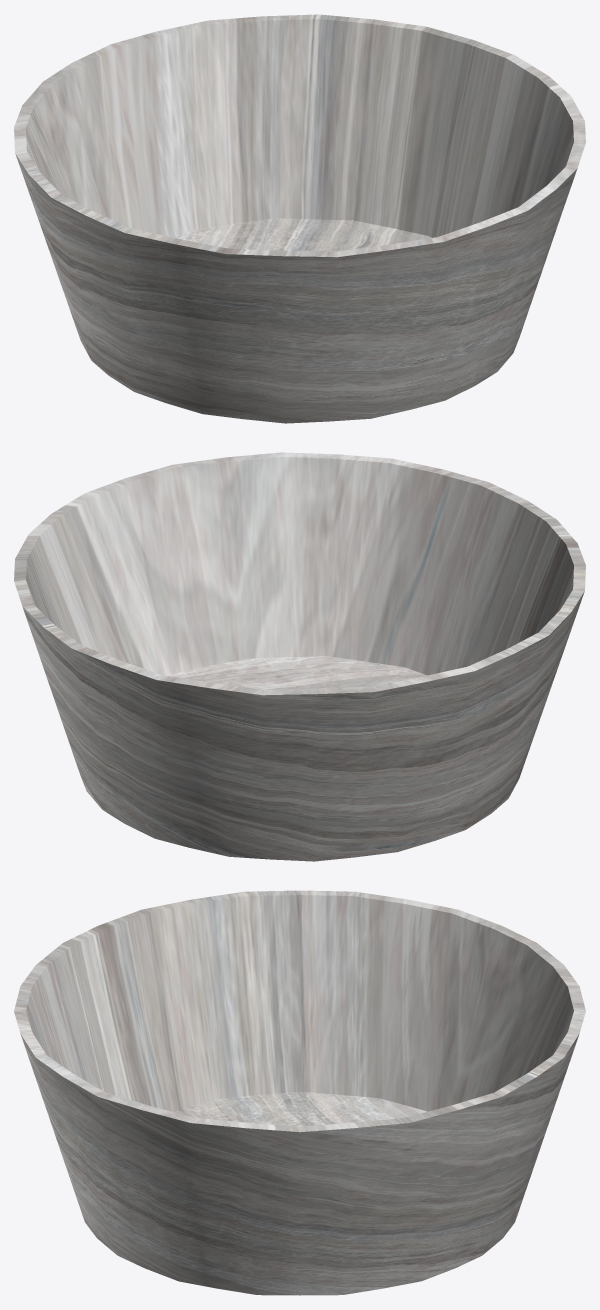
Rendered from Fuente-comida.fbx.
3 renders of one model, top to bottom at view 1: azimuth 30°, elevation 25°; view 2: azimuth 150°, elevation 25°; view 3: azimuth 270°, elevation 25°, orthographic.
Parts seen in each view (by area): view 1: Cylinder.003; view 2: Cylinder.003; view 3: Cylinder.003.
Part boxes in pixels (x1,y1,x2,y2): Cylinder.003: [14, 14, 585, 423]; Cylinder.003: [14, 452, 585, 861]; Cylinder.003: [14, 890, 585, 1295].
Bounding box in the file's own units: 91.49 × 34.39 × 91.49.
1 material, 1 textured.
